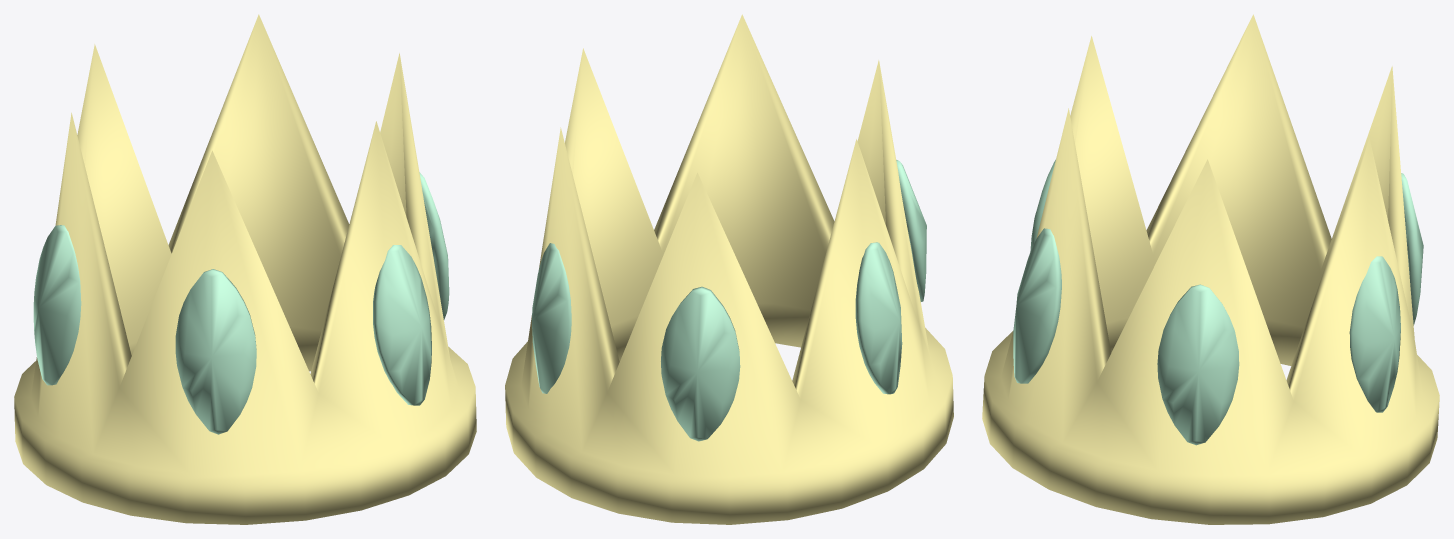
The model's file is KRUUNU.fbx.
The picture shows the model from 3 angles, left to right: view 1: azimuth 30°, elevation 25°; view 2: azimuth 150°, elevation 25°; view 3: azimuth 270°, elevation 25°; orthographic projection. The views are drawn at different scales.
Parts seen in each view (by area): view 1: Cylinder; view 2: Cylinder; view 3: Cylinder.
Part boxes in pixels (x1=…): Cylinder: x1=14, y1=14, x2=476, y2=524; Cylinder: x1=505, y1=14, x2=953, y2=524; Cylinder: x1=982, y1=14, x2=1439, y2=524.
Bounding box in the file's own units: 0.1352 × 0.1176 × 0.1358.
